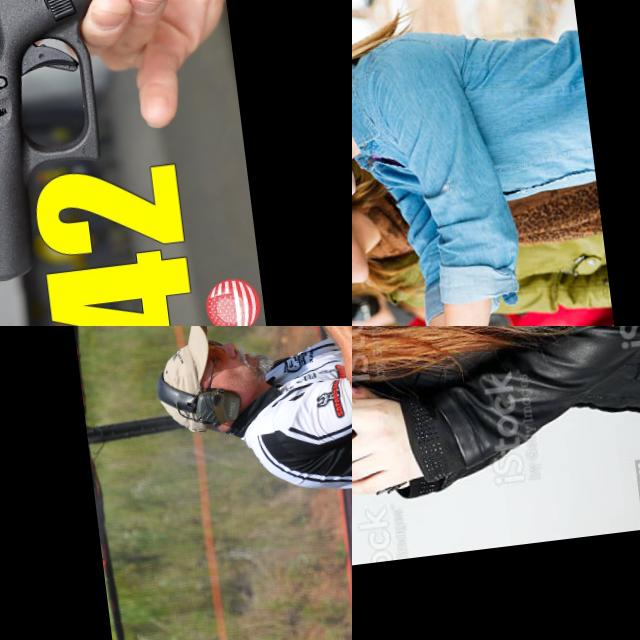handgun: (0, 0, 223, 294), (352, 367, 428, 475), (265, 326, 307, 374)
